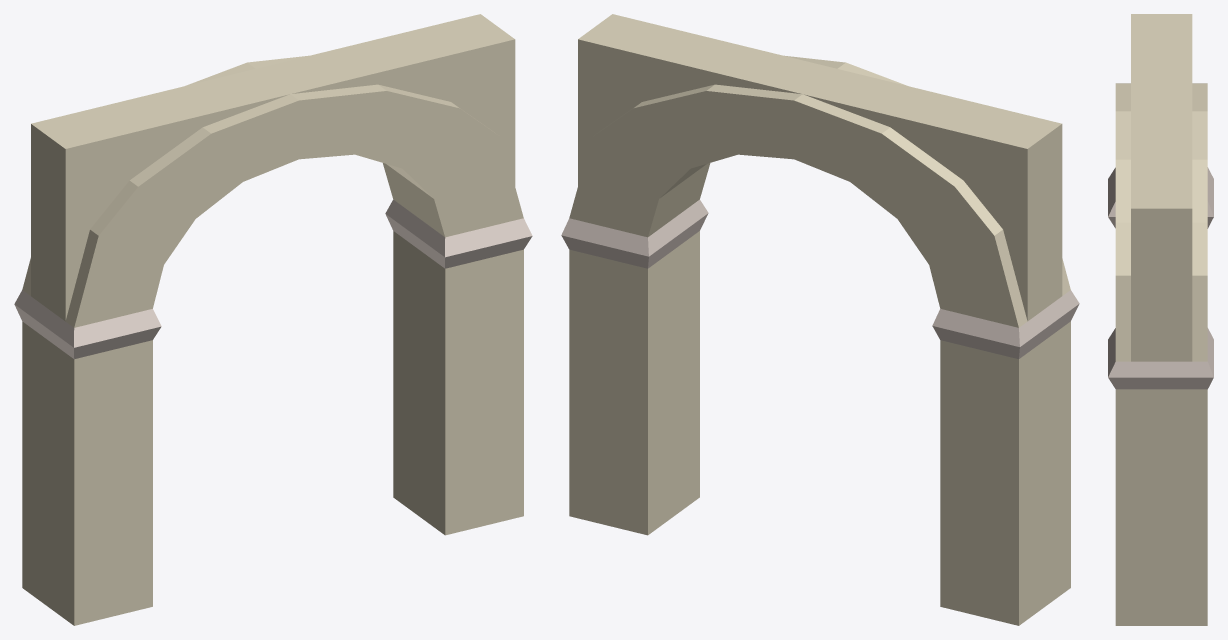
Rendered from roman_wall_arch.fbx.
The picture shows the model from 3 angles, left to right: view 1: azimuth 30°, elevation 25°; view 2: azimuth 150°, elevation 25°; view 3: azimuth 270°, elevation 25°; orthographic projection. The views are drawn at different scales.
Visible parts, largest first — view 1: Circle.005; view 2: Circle.005; view 3: Circle.005.
Part boxes in pixels (x1,y1,x2,y2): Circle.005: [14, 14, 532, 625]; Circle.005: [561, 14, 1079, 625]; Circle.005: [1108, 14, 1213, 625].
Bounding box in the file's own units: 3.06 × 3 × 0.69.
